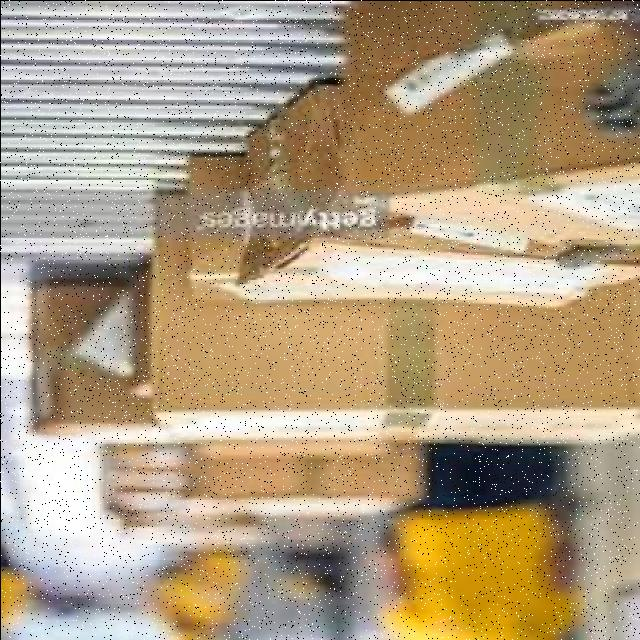normal: (136, 169, 638, 451)
